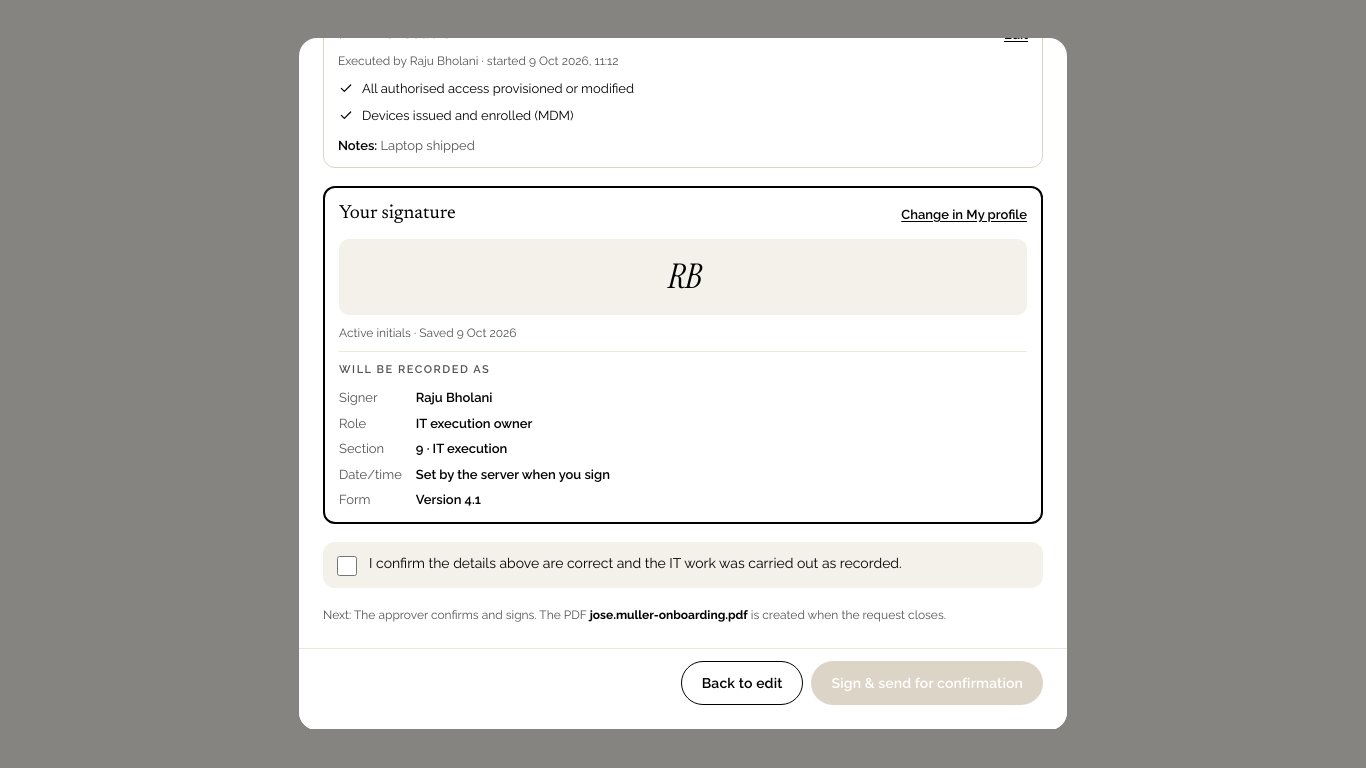
Test case: ReviewSignSheet › an incomplete section 9 is a warning: signing stays possible (2026-10-13)
This screenshot has width=1366, height=768.
(page scrolled)
What coordinates should you click on to do the following:
click the checkbox labelled "I confirm the details above"
I would click on:
 (347, 566)
Its box is [337,556,357,576].
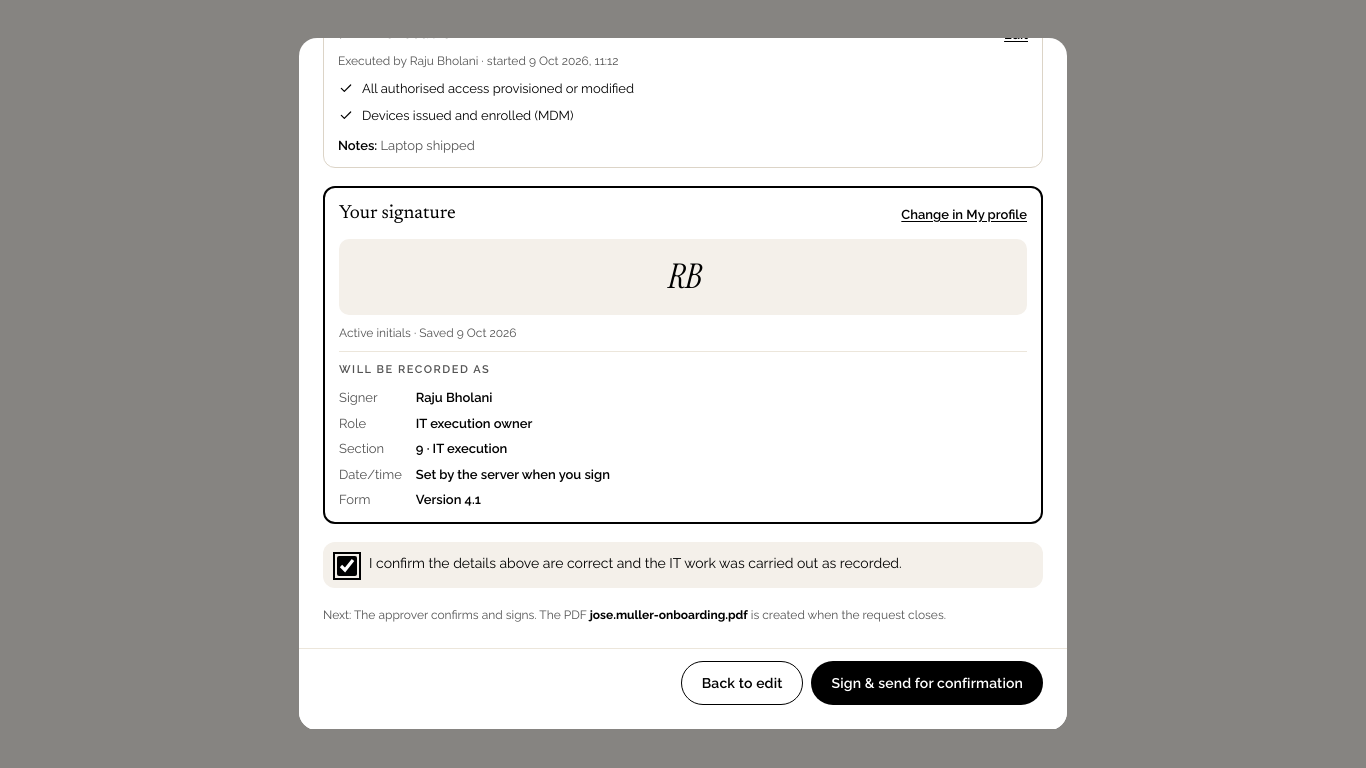
Now the button "Sign & send for confirmation" is enabled, box [812,661,1043,705]
